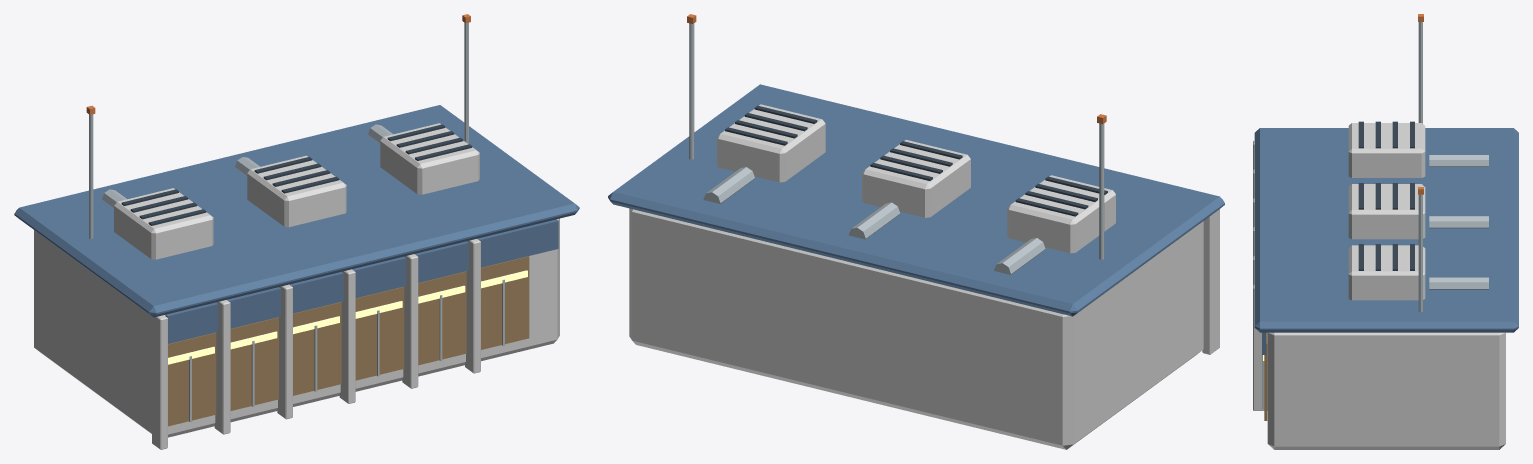
File: relay_terminal.glb
3 renders of one model, left to right at view 1: azimuth 30°, elevation 25°; view 2: azimuth 150°, elevation 25°; view 3: azimuth 270°, elevation 25°, orthographic. The views are drawn at different scales.
Parts seen in each view (by area): view 1: relay_terminal_blue, relay_terminal_concrete, relay_terminal_window, relay_terminal_silver, relay_terminal_dark, relay_terminal_amber; view 2: relay_terminal_concrete, relay_terminal_blue, relay_terminal_silver, relay_terminal_dark; view 3: relay_terminal_concrete, relay_terminal_blue, relay_terminal_silver, relay_terminal_dark, relay_terminal_window.
Boxes of the visible parts, <box> form: relay_terminal_blue: <box>14,105,579,343</box>; relay_terminal_concrete: <box>34,123,559,449</box>; relay_terminal_window: <box>168,256,529,426</box>; relay_terminal_silver: <box>89,22,504,422</box>; relay_terminal_dark: <box>121,124,472,225</box>; relay_terminal_amber: <box>168,270,527,364</box>; relay_terminal_concrete: <box>629,104,1219,449</box>; relay_terminal_blue: <box>608,84,1224,316</box>; relay_terminal_silver: <box>689,23,1104,274</box>; relay_terminal_dark: <box>725,105,1107,216</box>; relay_terminal_concrete: <box>1253,123,1505,449</box>; relay_terminal_blue: <box>1254,128,1518,354</box>; relay_terminal_silver: <box>1262,22,1488,408</box>; relay_terminal_dark: <box>1358,121,1414,270</box>; relay_terminal_window: <box>1264,332,1267,420</box>.
Bounding box in the file's own units: 55 × 33.35 × 31.2.
